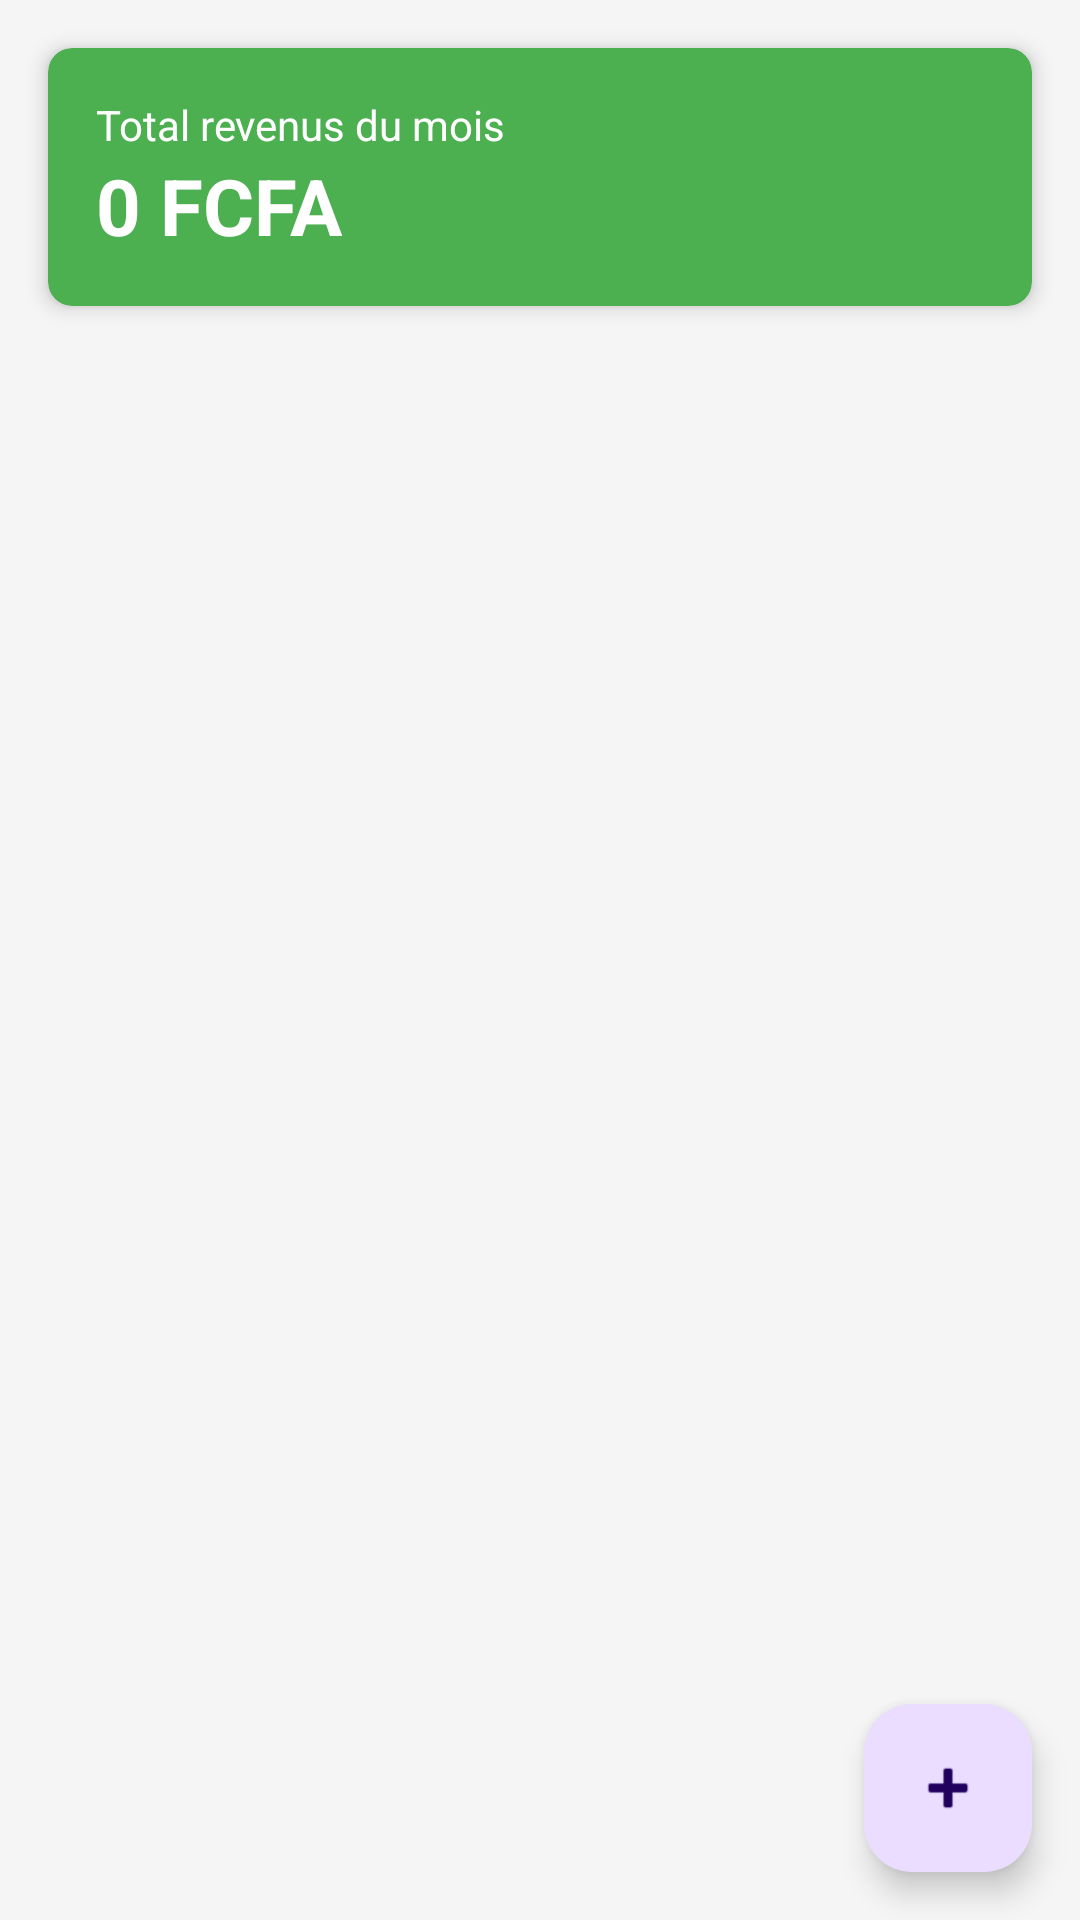

Icon bounding boxes for this 1080w x 1920h phone screenshot, format (x1, y1, x2, y2):
Ajouter un revenu: (864, 1704, 1032, 1872)
